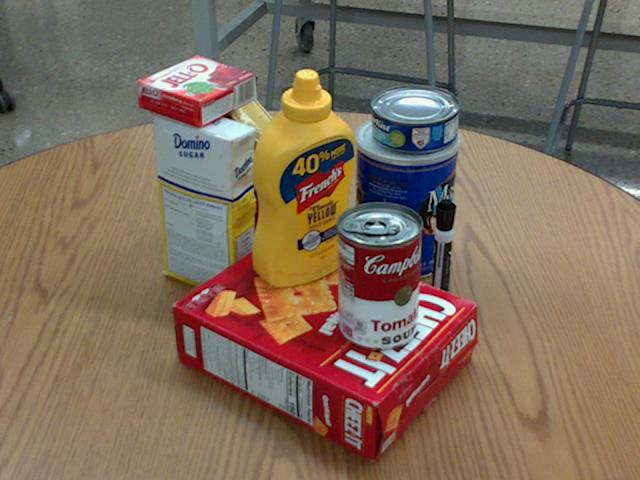cracker_box: (175, 228, 477, 461)
gelatin_box: (138, 56, 257, 126)
large_marker: (428, 199, 455, 314)
master_chef_can: (353, 112, 462, 280)
mug: (196, 155, 286, 260)
mustard_bottle: (251, 68, 355, 286)
potted_meat_can: (176, 91, 302, 217)
sugar_box: (153, 104, 256, 301)
tomato_soup_can: (337, 201, 423, 349)
tuna_fish_can: (372, 85, 460, 152)
